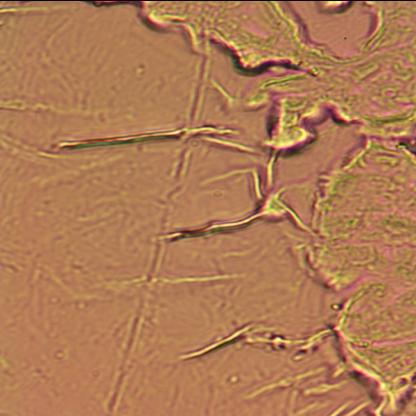Stage I: (112, 2, 416, 108), (322, 103, 416, 416)
